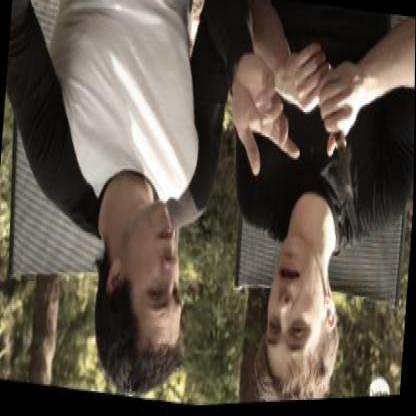knife: (311, 92, 370, 218)
